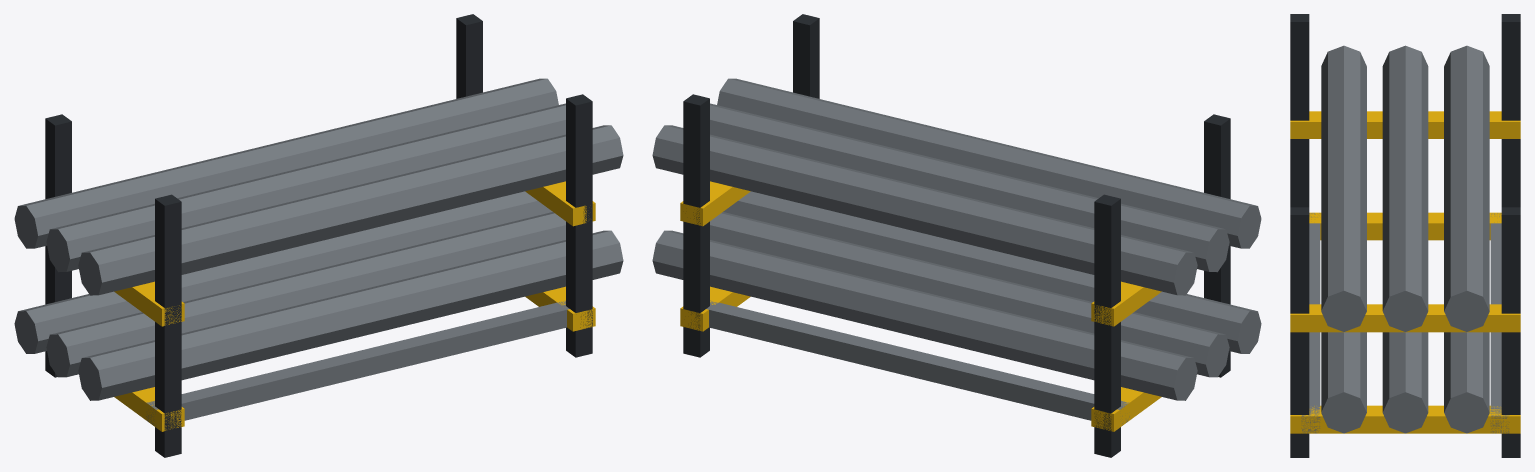
The model's file is CONSTRUCTION_RACK_01.glb.
The picture shows the model from 3 angles, left to right: view 1: azimuth 30°, elevation 25°; view 2: azimuth 150°, elevation 25°; view 3: azimuth 270°, elevation 25°; orthographic projection. The views are drawn at different scales.
Parts seen in each view (by area): view 1: CIVRUM_GAME_CONSTRUCTION_RACK_01; view 2: CIVRUM_GAME_CONSTRUCTION_RACK_01; view 3: CIVRUM_GAME_CONSTRUCTION_RACK_01.
Boxes of the visible parts, bbox=[...] form: CIVRUM_GAME_CONSTRUCTION_RACK_01: bbox=[14, 14, 623, 457]; CIVRUM_GAME_CONSTRUCTION_RACK_01: bbox=[652, 14, 1261, 457]; CIVRUM_GAME_CONSTRUCTION_RACK_01: bbox=[1290, 14, 1520, 457].
Bounding box in the file's own units: 3.68 × 1.7 × 1.46.
